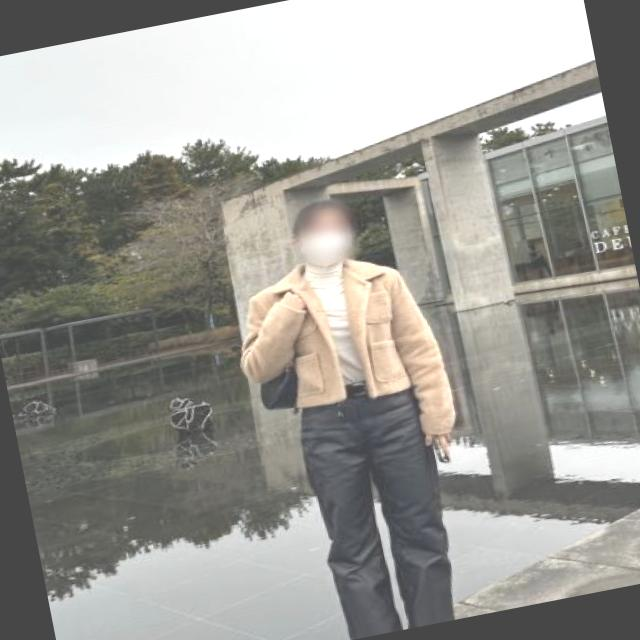denimpants: (291, 372, 463, 640)
jacket: (232, 242, 467, 473)
